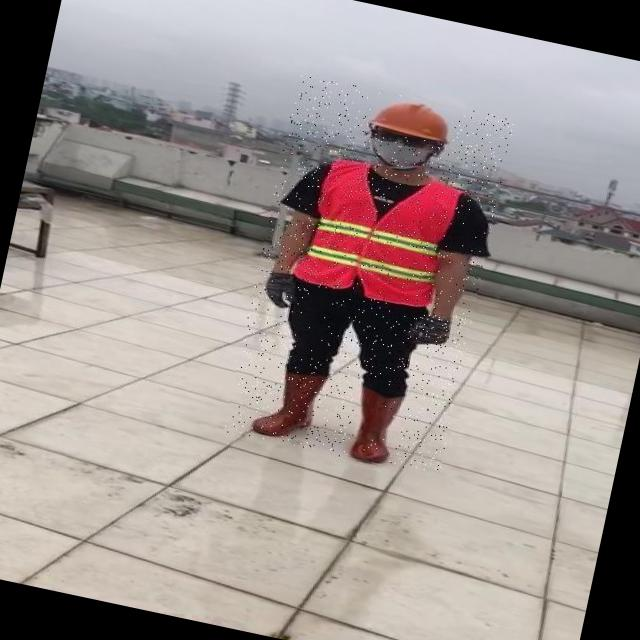boots: (241, 359, 331, 446), (346, 381, 408, 466)
gloves: (205, 225, 332, 344), (394, 260, 485, 366)
helmet: (367, 92, 458, 146)
vest: (295, 156, 467, 313)
